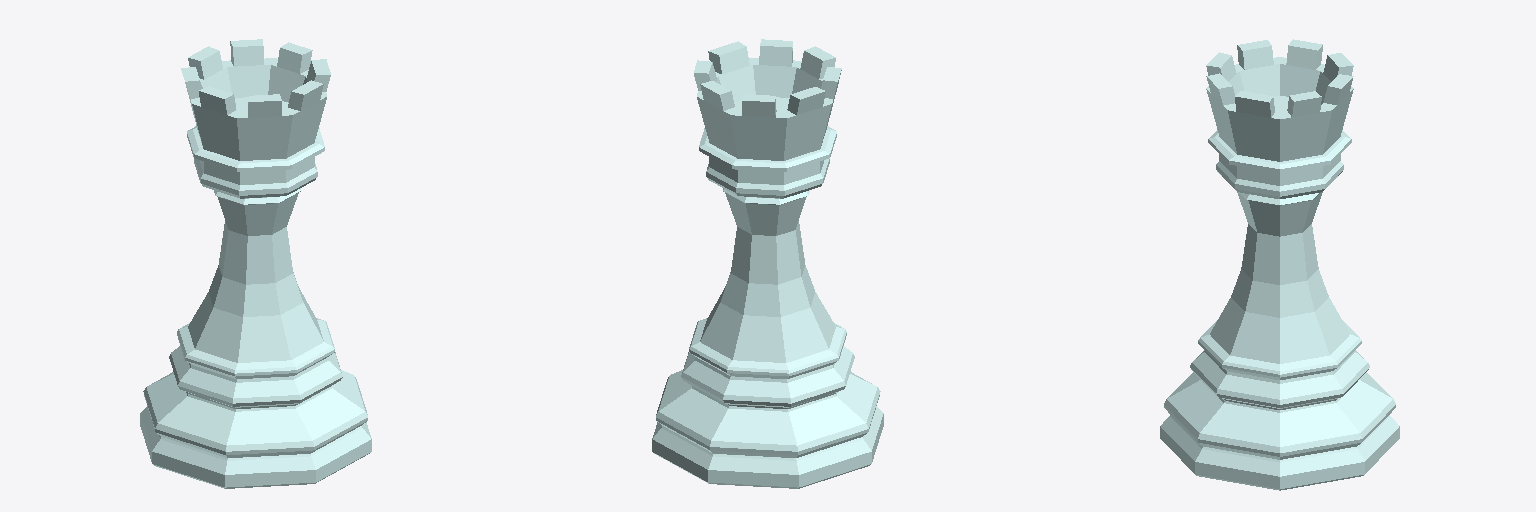
The model's file is Rook.obj.
The picture shows the model from 3 angles: view 1: azimuth 30°, elevation 25°; view 2: azimuth 150°, elevation 25°; view 3: azimuth 270°, elevation 25°; orthographic projection.
Visible parts, largest first — view 1: Rook_Cylinder.020; view 2: Rook_Cylinder.020; view 3: Rook_Cylinder.020.
Part boxes in pixels (bbox=[...]): Rook_Cylinder.020: bbox=[140, 39, 371, 488]; Rook_Cylinder.020: bbox=[652, 39, 883, 488]; Rook_Cylinder.020: bbox=[1160, 39, 1399, 490].
Bounding box in the file's own units: 0.3 × 0.5115 × 0.3.